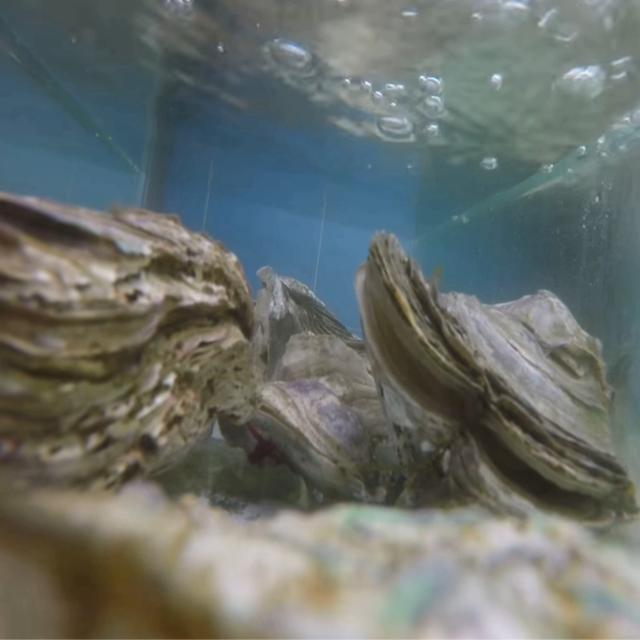Oyster-Closed: (0, 190, 257, 524), (250, 332, 409, 510)
Oyster-Indeterminate: (0, 481, 640, 640)
Oyster-Open: (355, 231, 640, 542)
